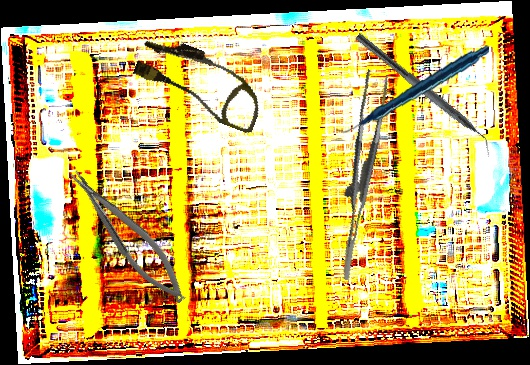Cannula: (127, 30, 273, 135)
Chopper: (347, 32, 501, 159)
Handpiece: (335, 30, 490, 148)
Needle Holder: (63, 158, 195, 313)
Tissue Forceps: (307, 69, 410, 281)
